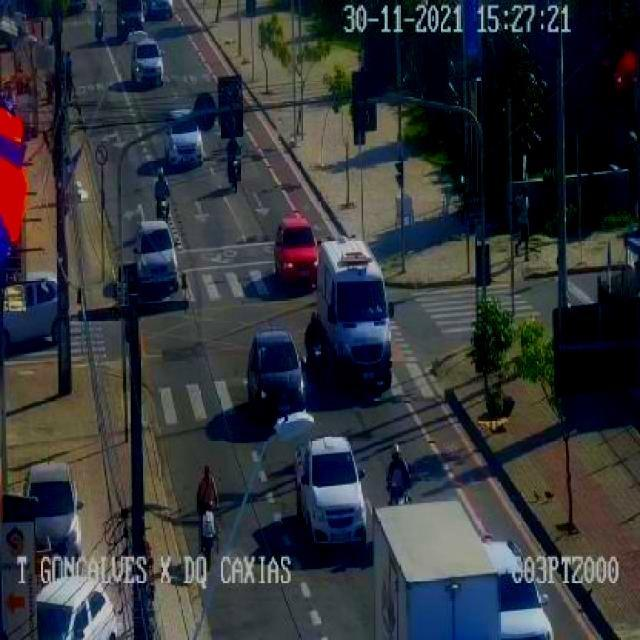Car: (488, 538, 556, 640), (21, 567, 116, 640), (24, 468, 93, 560), (251, 324, 305, 441), (269, 201, 325, 291), (0, 274, 63, 352), (138, 224, 181, 300), (168, 110, 205, 176)
Cycle: (371, 431, 426, 514), (218, 137, 257, 194), (148, 166, 176, 228)
Truck: (365, 471, 492, 640)
Van: (320, 234, 394, 396)
